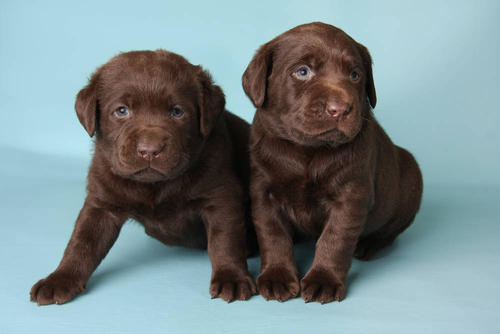dog: (74, 49, 224, 187), (241, 16, 380, 155)
